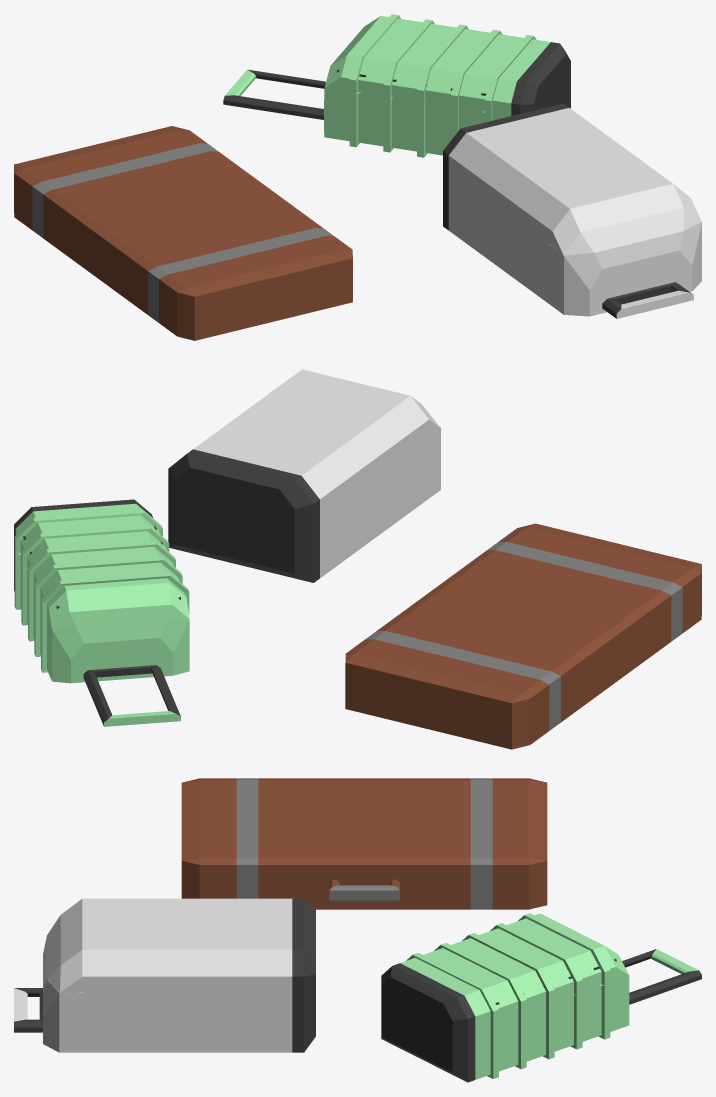
File: Briefcases.fbx
3 renders of one model, top to bottom at view 1: azimuth 30°, elevation 25°; view 2: azimuth 150°, elevation 25°; view 3: azimuth 270°, elevation 25°, orthographic. The views are drawn at different scales.
Visible parts, largest first — view 1: BriefcasesLuggageDoor, Briefcase2Door, Briefcase1Door, Briefcase2, Briefcase1, BriefcasesLuggage; view 2: BriefcasesLuggageDoor, Briefcase2Door, Briefcase1Door, Briefcase2, Briefcase1, BriefcasesLuggage; view 3: BriefcasesLuggageDoor, Briefcase2Door, Briefcase2, Briefcase1Door, Briefcase1, BriefcasesLuggage.
Boxes of the visible parts, left/top/right/bottom form: BriefcasesLuggageDoor: left=14, top=126, right=352, bottom=318; Briefcase2Door: left=443, top=103, right=701, bottom=255; Briefcase1Door: left=324, top=14, right=570, bottom=115; Briefcase2: left=443, top=166, right=701, bottom=318; Briefcase1: left=223, top=69, right=570, bottom=157; BriefcasesLuggage: left=14, top=192, right=352, bottom=340; BriefcasesLuggageDoor: left=345, top=523, right=701, bottom=726; Briefcase2Door: left=168, top=369, right=440, bottom=521; Briefcase1Door: left=14, top=499, right=189, bottom=629; Briefcase2: left=168, top=427, right=440, bottom=582; Briefcase1: left=14, top=538, right=189, bottom=726; BriefcasesLuggage: left=345, top=593, right=701, bottom=749; BriefcasesLuggageDoor: left=181, top=778, right=547, bottom=895; Briefcase2Door: left=47, top=898, right=315, bottom=992; Briefcase2: left=14, top=936, right=315, bottom=1052; Briefcase1Door: left=381, top=913, right=628, bottom=1031; Briefcase1: left=381, top=949, right=701, bottom=1082; BriefcasesLuggage: left=181, top=883, right=547, bottom=909.
Bounding box in the file's own units: 1.8 × 2.04 × 0.3106.
